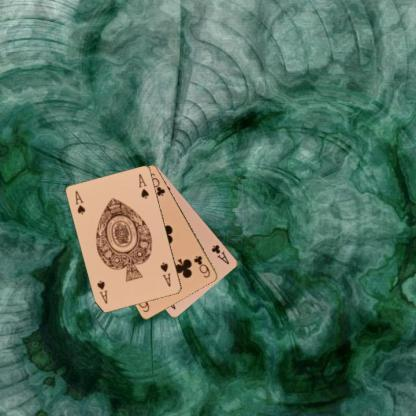6c: (192, 253, 212, 279)
Ac: (209, 242, 231, 266)
As: (158, 260, 172, 288), (72, 188, 86, 216)
